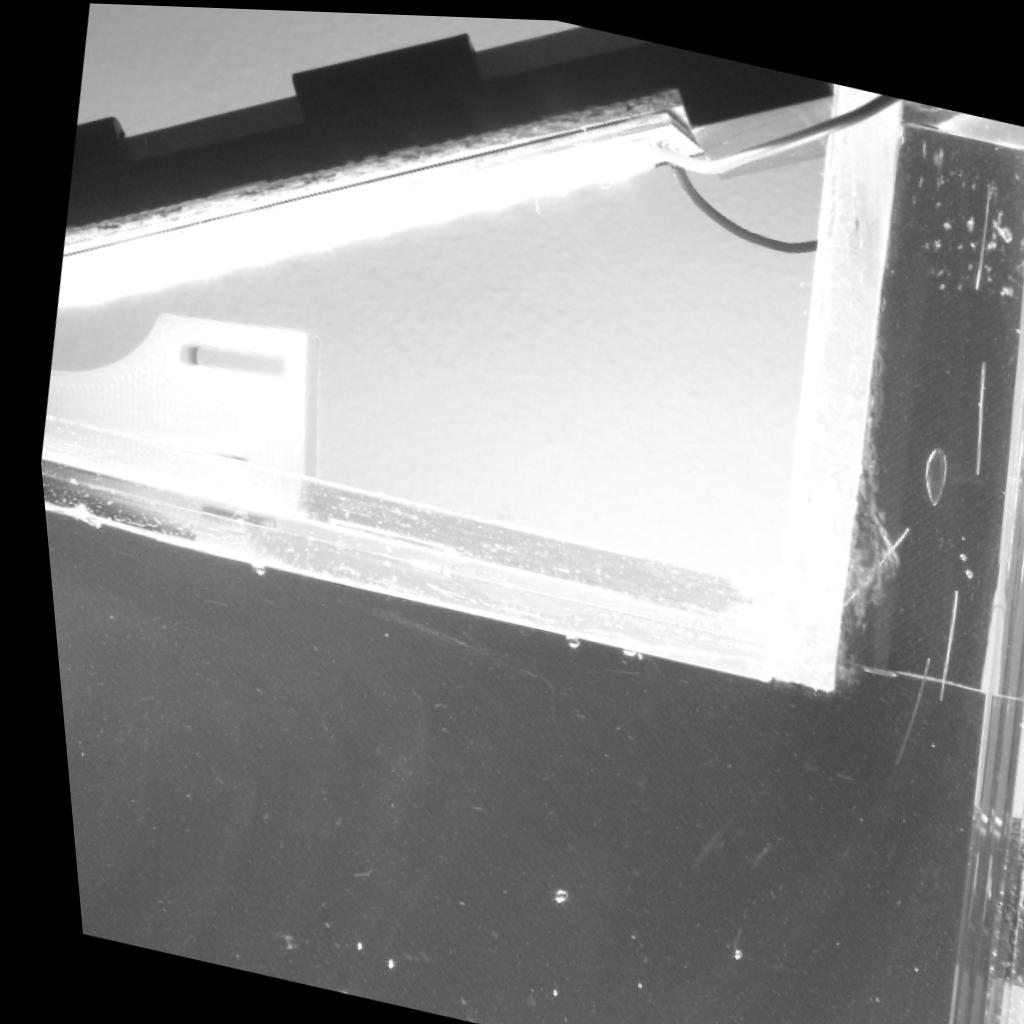Fiber: (819, 521, 904, 615), (879, 648, 920, 766), (924, 583, 948, 695), (967, 177, 990, 286), (967, 353, 981, 466)
